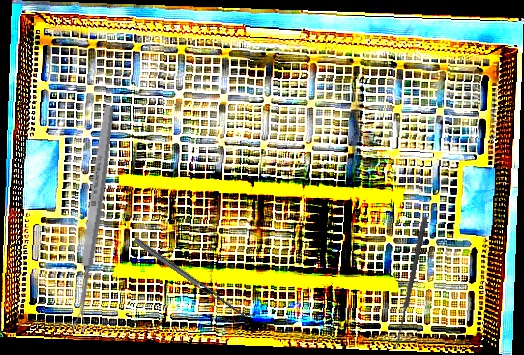Spatula Surgical: (133, 232, 256, 324)
Surgical Spoon: (70, 105, 117, 332), (393, 216, 428, 350)
